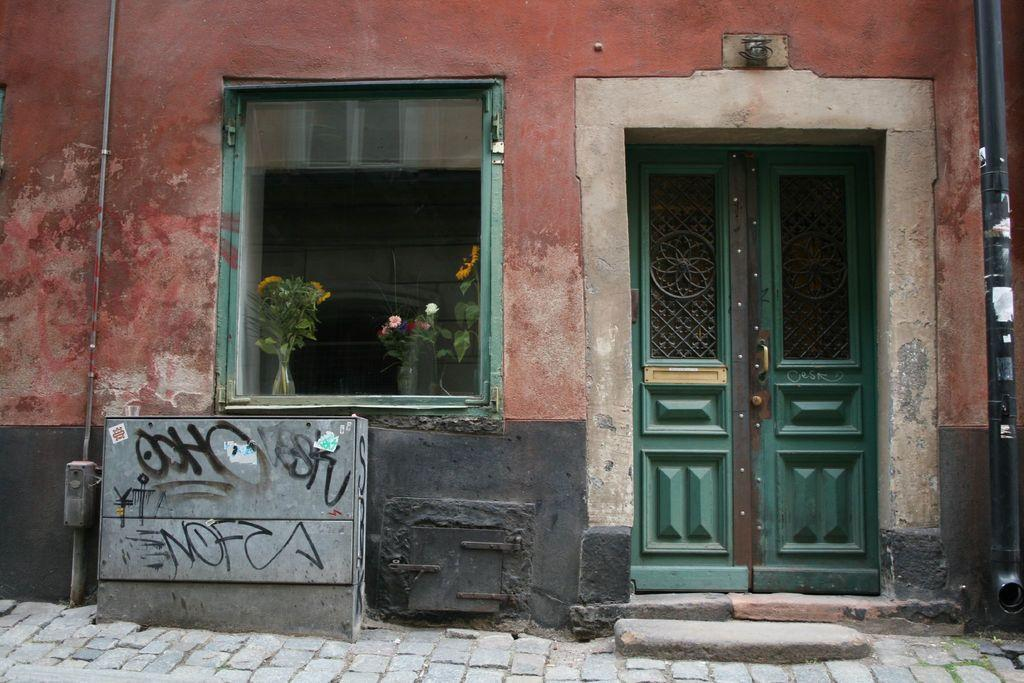handle: (758, 338, 776, 378), (750, 388, 764, 413)
